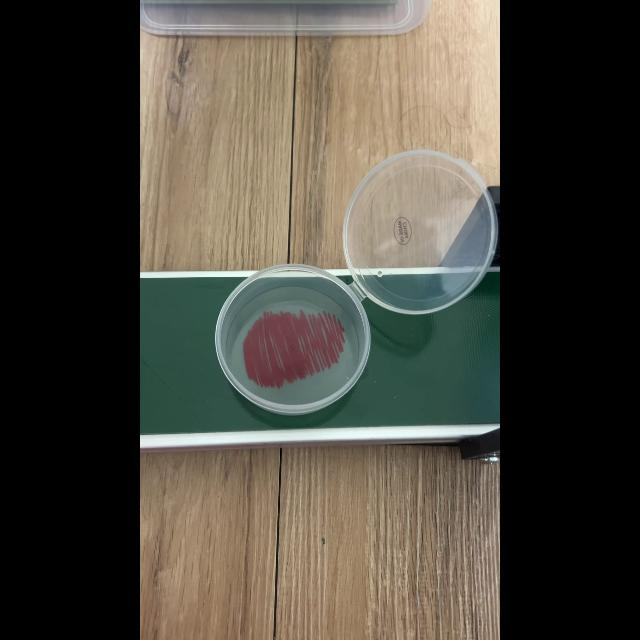dirty: (220, 280, 358, 400)
